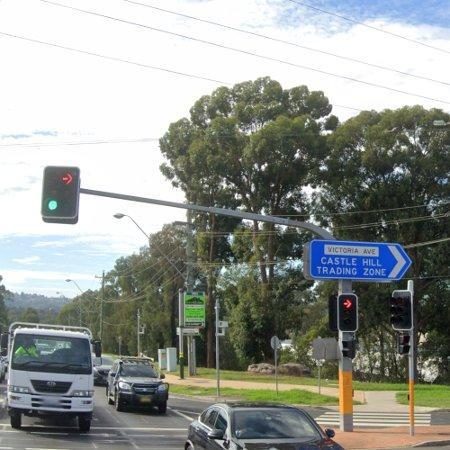traffic lights: (40, 163, 82, 224), (383, 288, 414, 331), (337, 293, 360, 333)
